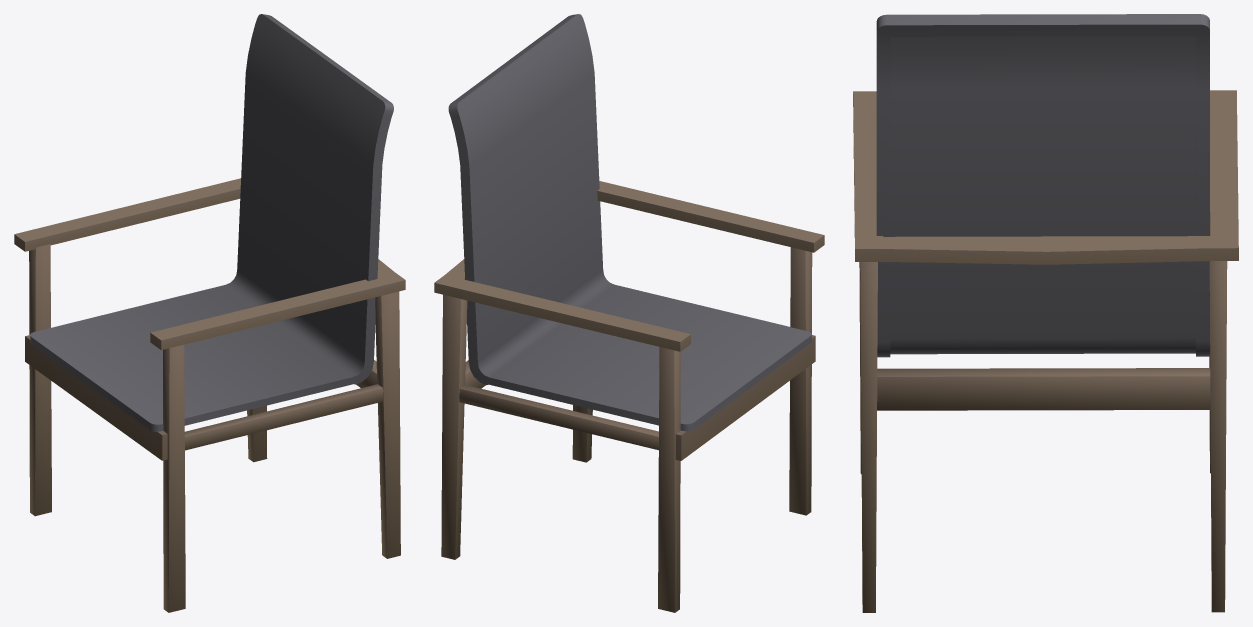
File: chair.fbx
The picture shows the model from 3 angles, left to right: view 1: azimuth 30°, elevation 25°; view 2: azimuth 150°, elevation 25°; view 3: azimuth 270°, elevation 25°; orthographic projection. The views are drawn at different scales.
Parts seen in each view (by area): view 1: Plane.002; view 2: Plane.002; view 3: Plane.002.
Boxes of the visible parts, bbox=[...] form: Plane.002: bbox=[14, 14, 405, 612]; Plane.002: bbox=[434, 14, 824, 612]; Plane.002: bbox=[853, 14, 1238, 612].
Size of the model in its own units: 133 by 228 by 135.
